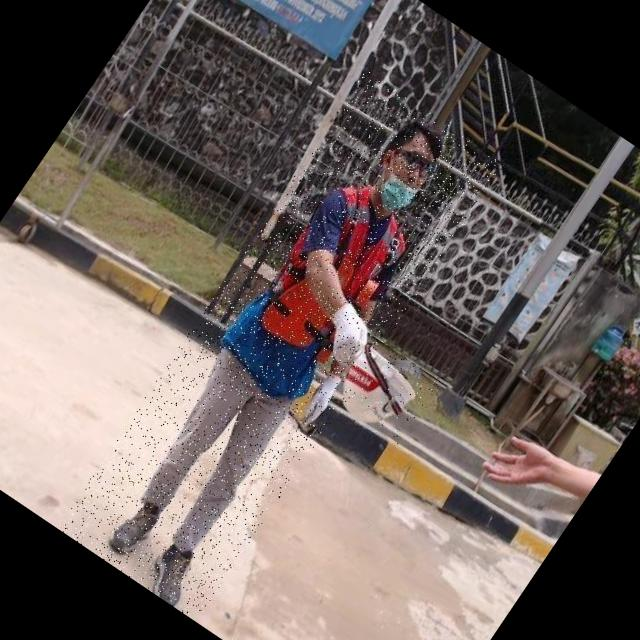hard_hat: (322, 334, 439, 450)
vehicle: (57, 70, 506, 622)
work_boots: (136, 536, 212, 612), (102, 493, 170, 569)
